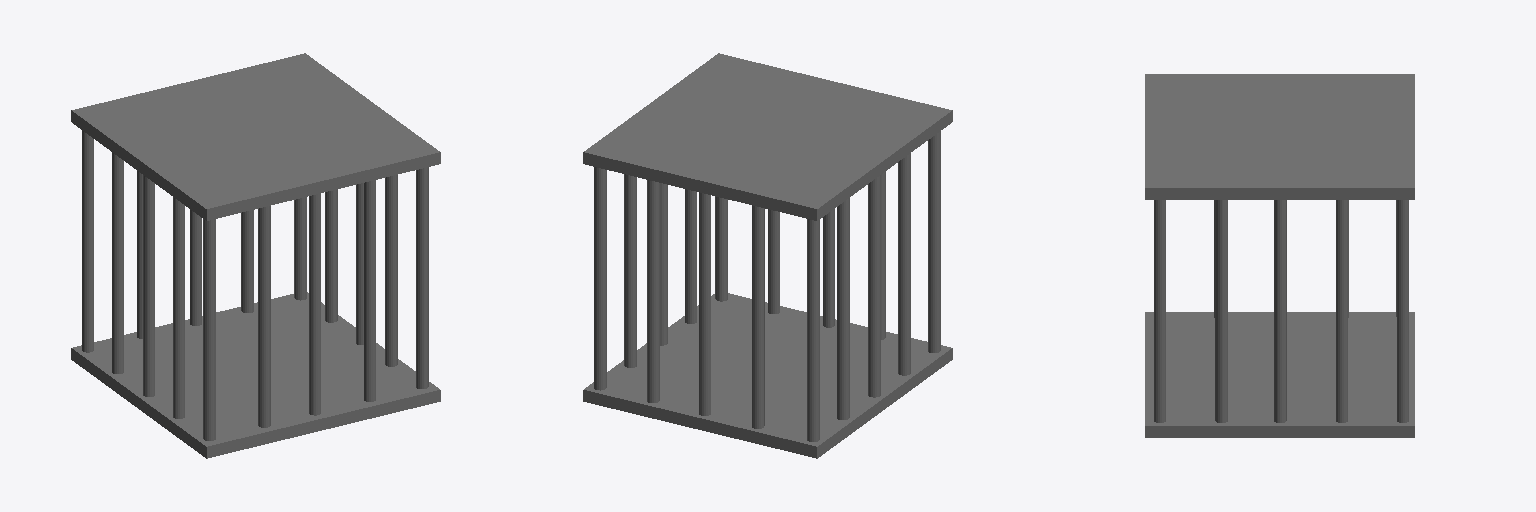
File: Cage.obj
3 views of the same model, side by side, from view 1: azimuth 30°, elevation 25°; view 2: azimuth 150°, elevation 25°; view 3: azimuth 270°, elevation 25° (orthographic).
Visible parts, largest first — view 1: Cage1; view 2: Cage1; view 3: Cage1.
Boxes of the visible parts, x1,y1,x2,y2 form: Cage1: [71, 53, 440, 458]; Cage1: [583, 53, 952, 458]; Cage1: [1145, 74, 1414, 437].
Bounding box in the file's own units: 27.05 × 27.55 × 27.05.